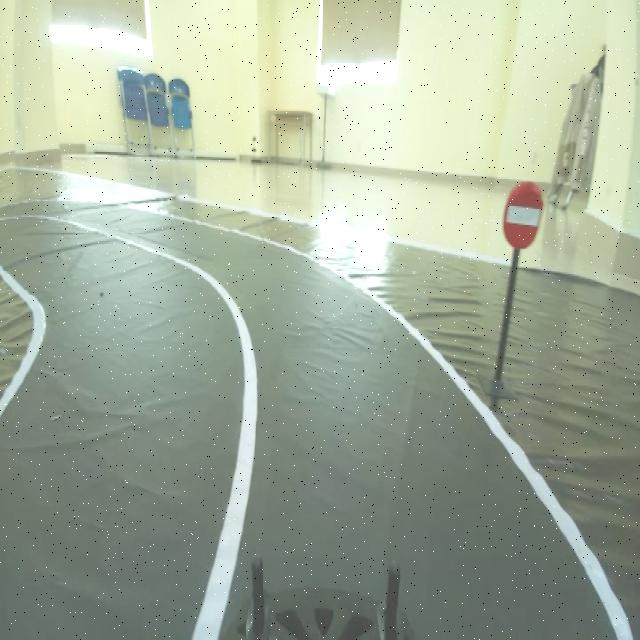no_entry: (492, 169, 550, 262)
